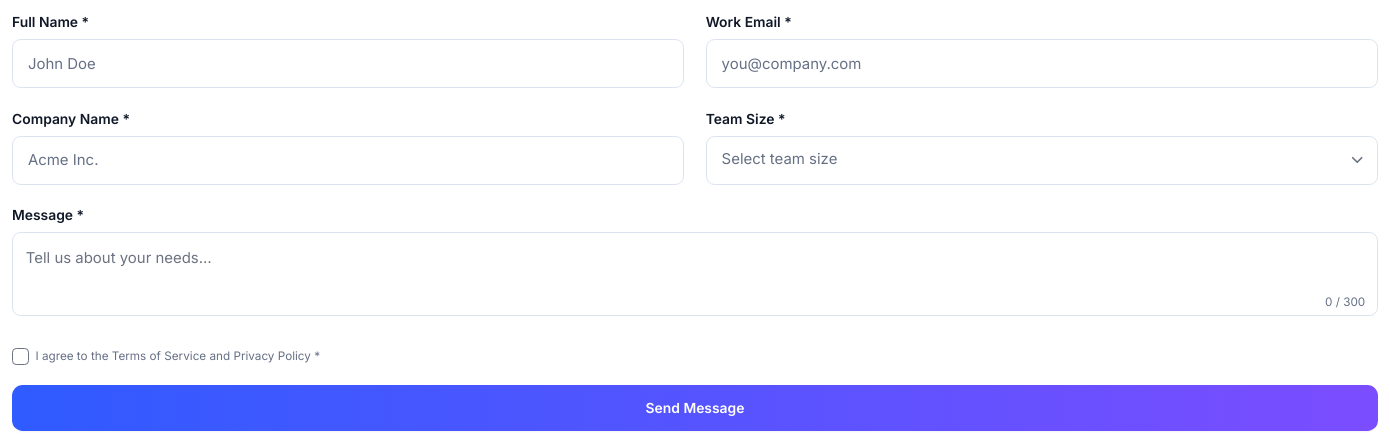
ContactForm › counts message characters live
The width and height of the screenshot is (1390, 448).
Expected: the text "0 / 300" is shown, [1325,294,1365,311]
Type "Hello" into the text box labelled "Message *" at (695, 274), box [12,232,1378,316]
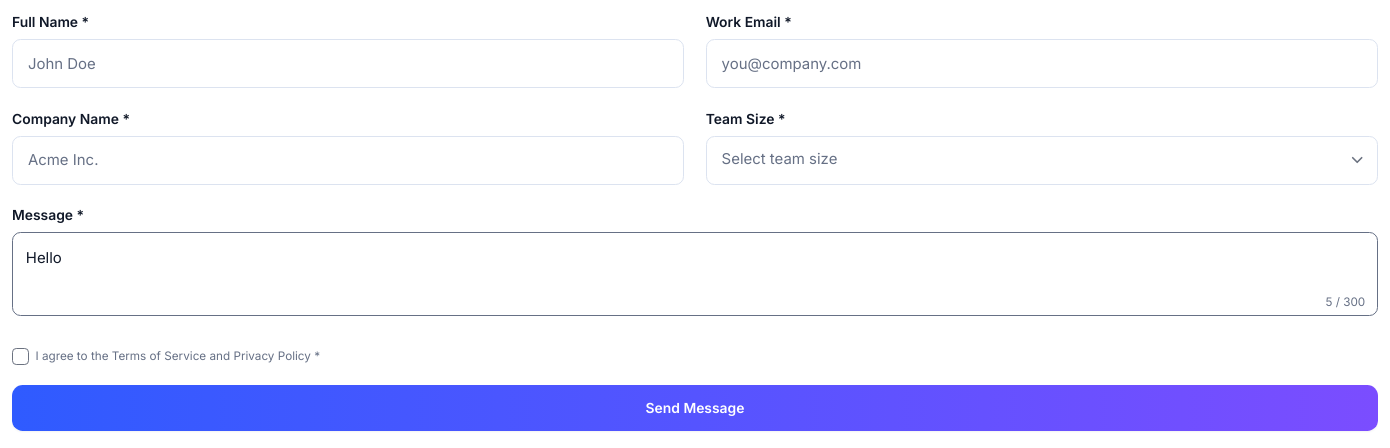
Expected: the text "5 / 300" is shown, [1325,294,1365,311]
